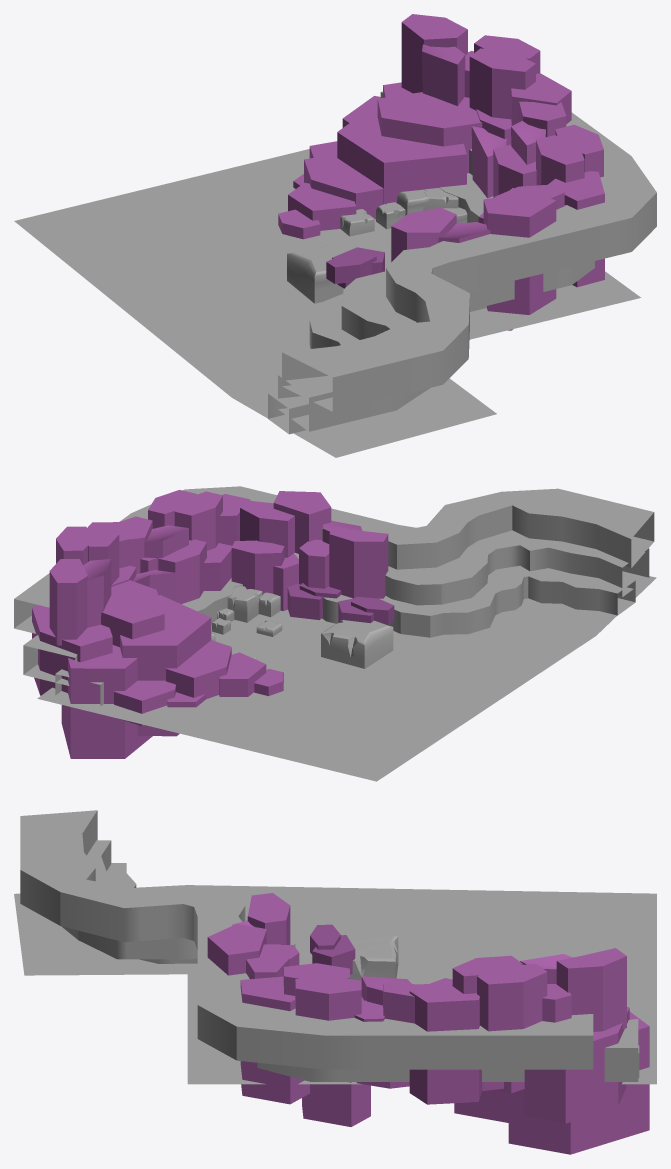
Rendered from Menu_Scene.fbx.
3 renders of one model, top to bottom at view 1: azimuth 30°, elevation 25°; view 2: azimuth 150°, elevation 25°; view 3: azimuth 270°, elevation 25°, orthographic. The views are drawn at different scales.
Parts seen in each view (by area): view 1: map1:UV_p, map1:Uvmap1, pasted__pasted__pasted__pCylinder102, pCylinder103, map1:Uvmap2, pasted__pCylinder102, polySurface12, map1:Uvmap3, polySurface2, pasted__pasted__pCube35, polySurface9, polySurface1 (+9 smaller); view 2: map1:UV_p, map1:Uvmap1, map1:Uvmap2, map1:Uvmap3, pasted__pCylinder103, pCylinder103, pasted__pasted__pasted__pCylinder102, pasted__pCylinder102, polySurface9, pCylinder106, pasted__pasted__pCube35, polySurface2 (+14 smaller); view 3: map1:Uvmap1, map1:UV_p, pasted__pasted__pasted__pCylinder102, pasted__pCylinder103, pasted__pCylinder102, map1:Uvmap2, polySurface13, polySurface12, pasted__pasted__pCube35, polySurface9, pasted__pCylinder100, pCylinder103 (+2 smaller).
Boxes of the visible parts, left/top/right/bottom form: map1:UV_p: left=14, top=149, right=640, bottom=457; map1:Uvmap1: left=282, top=112, right=656, bottom=411; pasted__pasted__pasted__pCylinder102: left=401, top=14, right=571, bottom=125; pCylinder103: left=337, top=92, right=482, bottom=204; map1:Uvmap2: left=278, top=91, right=594, bottom=431; pasted__pCylinder102: left=511, top=101, right=604, bottom=287; polySurface12: left=483, top=191, right=556, bottom=314; map1:Uvmap3: left=268, top=173, right=493, bottom=434; polySurface2: left=304, top=154, right=383, bottom=219; pasted__pasted__pCube35: left=287, top=242, right=349, bottom=303; polySurface9: left=391, top=207, right=456, bottom=261; polySurface1: left=288, top=183, right=356, bottom=230; map1:UV_p: left=37, top=576, right=656, bottom=781; map1:Uvmap1: left=14, top=486, right=654, bottom=633; map1:Uvmap2: left=23, top=530, right=649, bottom=685; map1:Uvmap3: left=55, top=565, right=635, bottom=706; pasted__pCylinder103: left=32, top=605, right=152, bottom=758; pCylinder103: left=101, top=580, right=211, bottom=736; pasted__pasted__pasted__pCylinder102: left=49, top=522, right=128, bottom=645; pasted__pCylinder102: left=120, top=490, right=250, bottom=574; polySurface9: left=329, top=526, right=388, bottom=598; pCylinder106: left=231, top=540, right=298, bottom=610; pasted__pasted__pCube35: left=321, top=620, right=393, bottom=668; polySurface2: left=166, top=640, right=231, bottom=699; map1:Uvmap1: left=20, top=810, right=593, bottom=1069; map1:UV_p: left=14, top=885, right=656, bottom=1084; pasted__pasted__pasted__pCylinder102: left=409, top=948, right=626, bottom=1104; pasted__pCylinder103: left=508, top=1007, right=649, bottom=1154; pasted__pCylinder102: left=240, top=963, right=427, bottom=1104; map1:Uvmap2: left=61, top=840, right=638, bottom=1081; polySurface13: left=302, top=1082, right=370, bottom=1126; polySurface12: left=207, top=924, right=266, bottom=975; pasted__pasted__pCube35: left=341, top=935, right=398, bottom=982; polySurface9: left=247, top=893, right=290, bottom=944; pasted__pCylinder100: left=310, top=924, right=355, bottom=974; pCylinder103: left=454, top=1082, right=524, bottom=1122.
Size of the model in its own units: 65.74 by 25.22 by 78.47.
